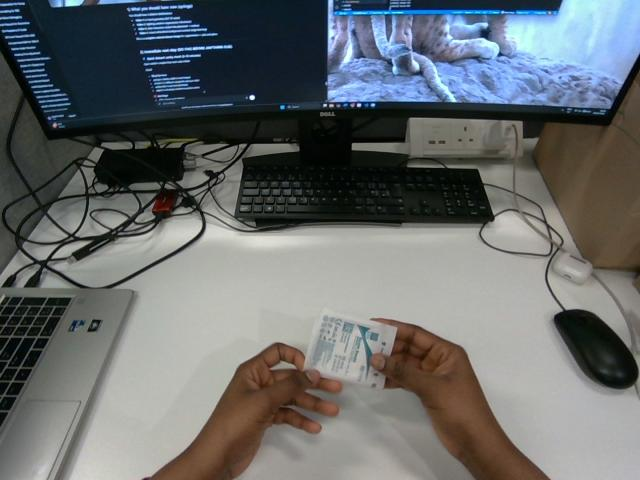gauze: (304, 308, 396, 388)
